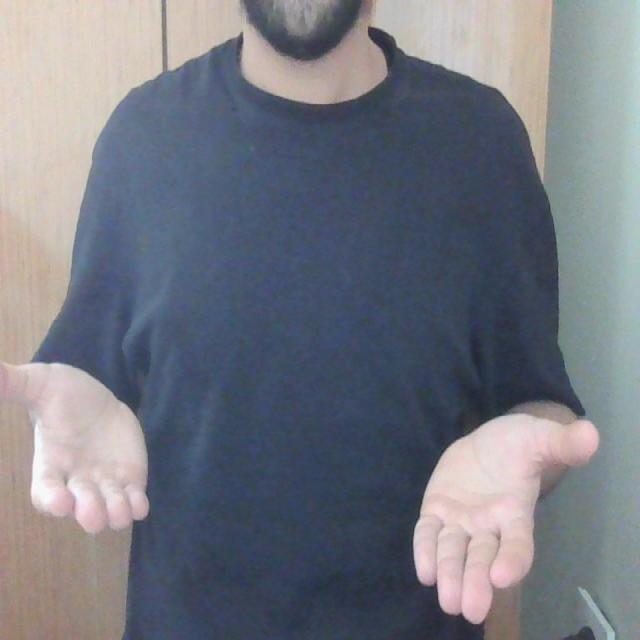Evet: (0, 352, 602, 625)
